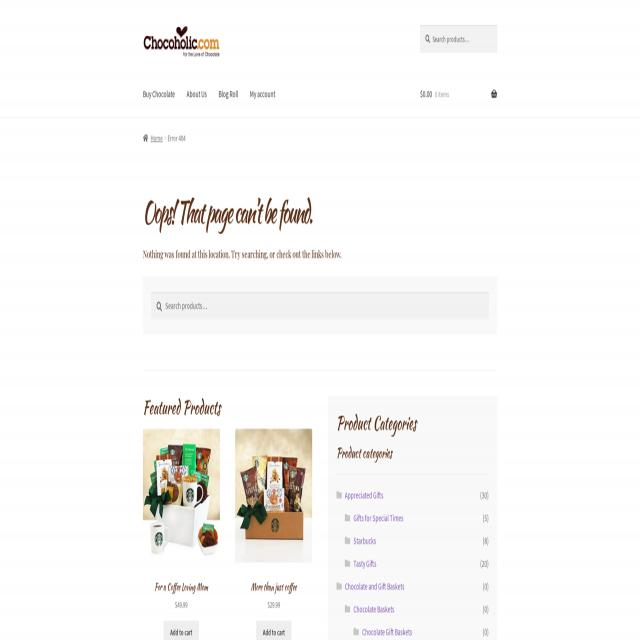button: (143, 429, 220, 567), (235, 429, 312, 567), (413, 71, 505, 117), (143, 25, 219, 58), (138, 71, 180, 117), (244, 71, 280, 117), (181, 71, 212, 117), (213, 71, 243, 117), (255, 620, 292, 640), (163, 620, 199, 640)
field: (151, 292, 489, 321), (420, 24, 498, 52)
